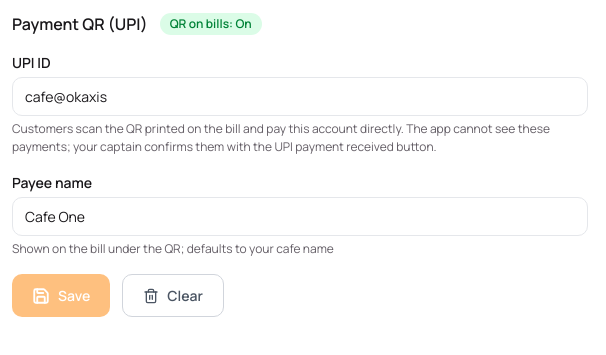
PaymentQrSettings › invalid format blocks save
Step 1. Replace the text in the field labelled "UPI ID" with "not-a-upi" → (300, 96), box [12, 77, 588, 116]
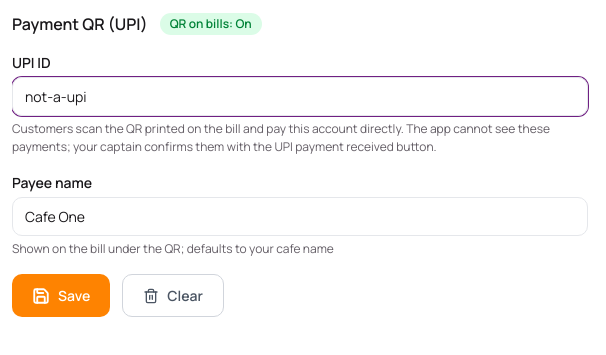
Step 2. Click the button "Save" → (61, 296), box [12, 274, 110, 317]
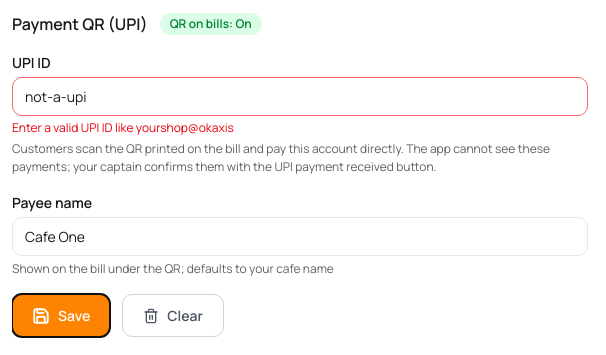
Expected: the text "Enter a valid UPI ID like yourshop@okaxis" is shown, [12, 119, 234, 136]
